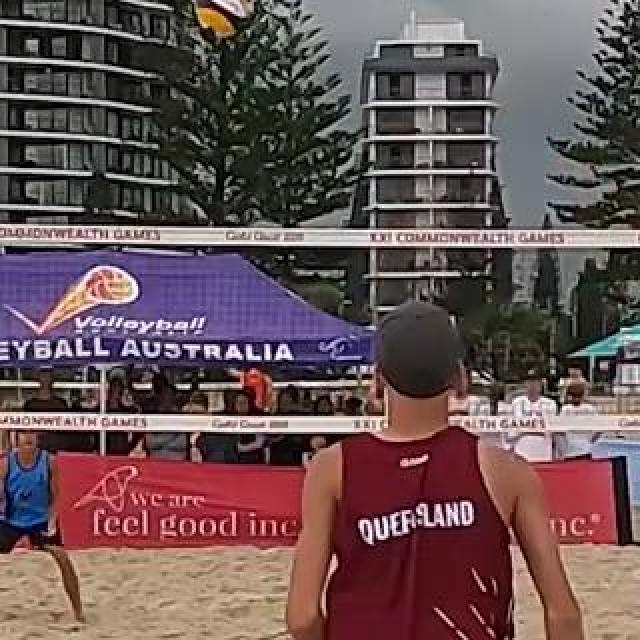volleyball: (195, 0, 257, 34)
